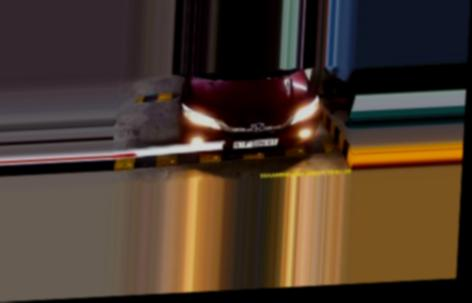License_Plate: (232, 136, 279, 151)
